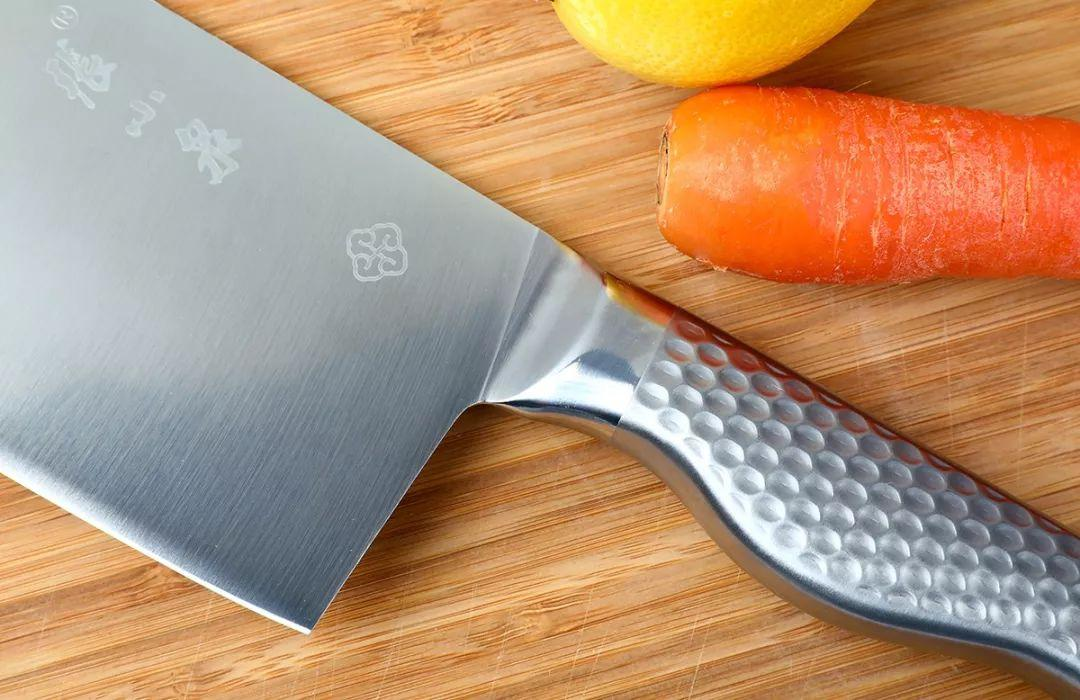knife: (3, 3, 1065, 700)
